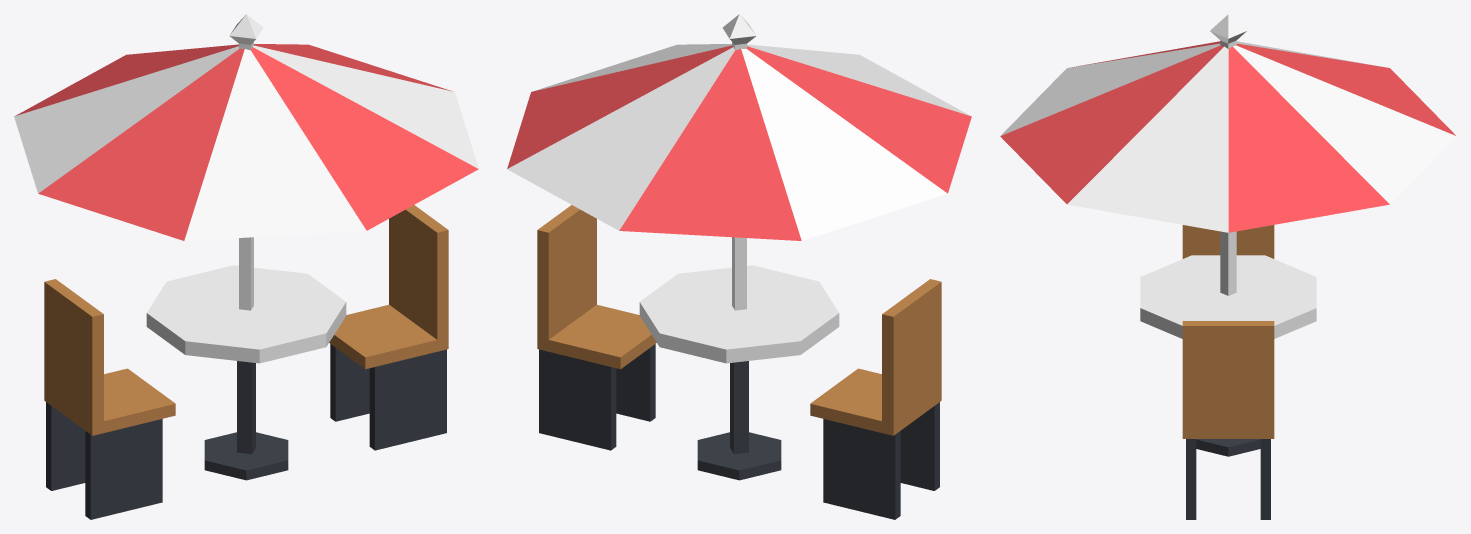
The model's file is cafe_table.glb.
3 renders of one model, left to right at view 1: azimuth 30°, elevation 25°; view 2: azimuth 150°, elevation 25°; view 3: azimuth 270°, elevation 25°, orthographic. The views are drawn at different scales.
Visible parts, largest first — view 1: cafe_table; view 2: cafe_table; view 3: cafe_table.
Part boxes in pixels (bbox=[...]): cafe_table: bbox=[14, 14, 478, 519]; cafe_table: bbox=[507, 14, 971, 519]; cafe_table: bbox=[1000, 14, 1456, 519].
Bounding box in the file's own units: 0.22 × 0.225 × 0.22.
